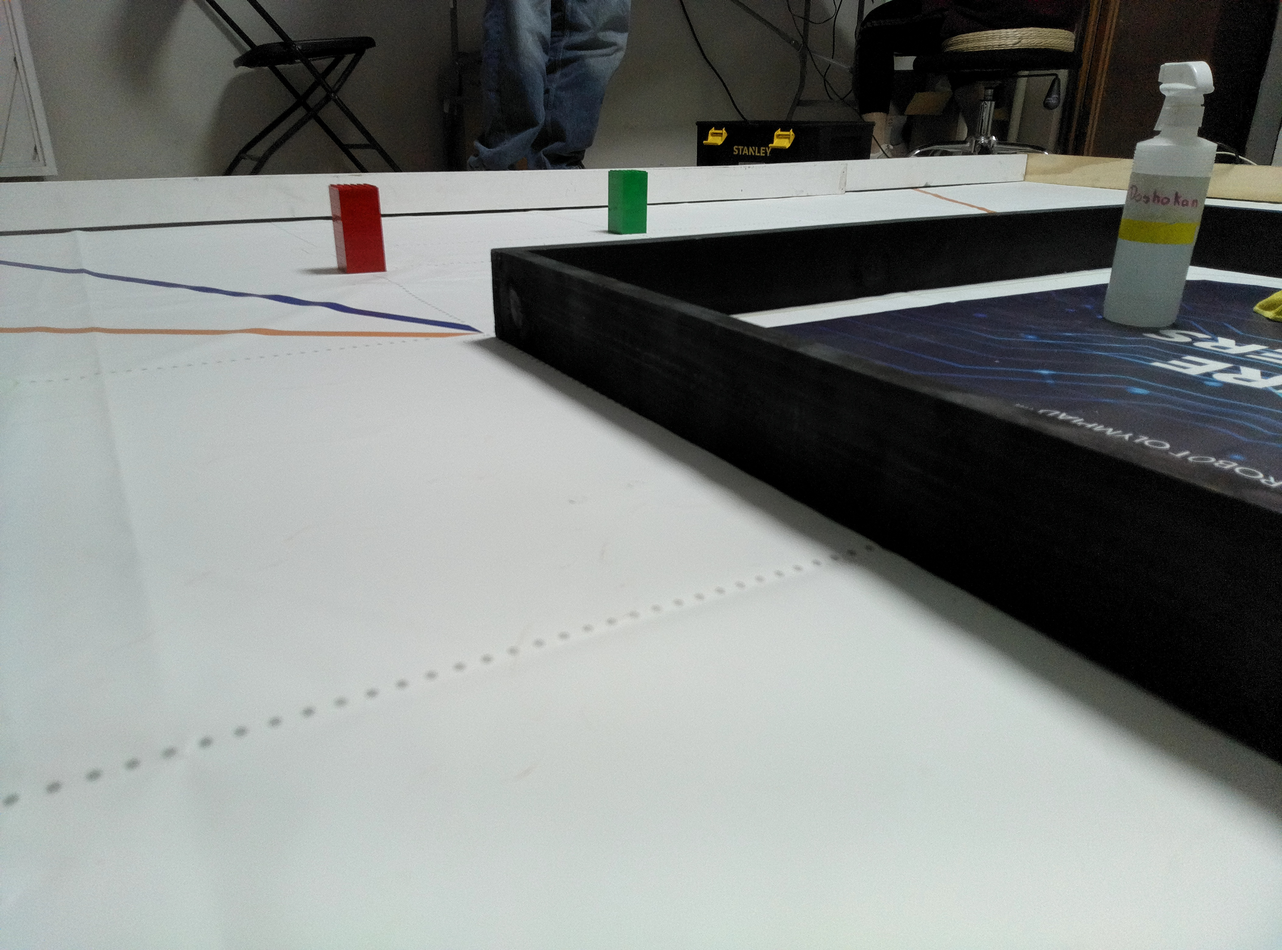greenbox: (607, 169, 649, 236)
redbox: (327, 182, 389, 275)
